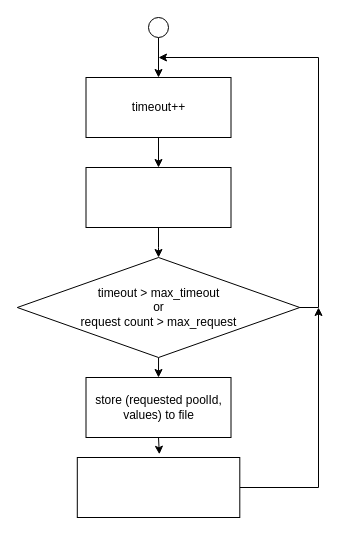
Image size: 345x535. Some labels were removed from this diagram. The shapes that lost their labels are listed below. From the top down, each one's centre as x and y in pixels, then its label:
At pixel 158 197: "Sleep 1 second".
At pixel 158 487: "Reset timeout Reset request count Reset requested poolId list".
